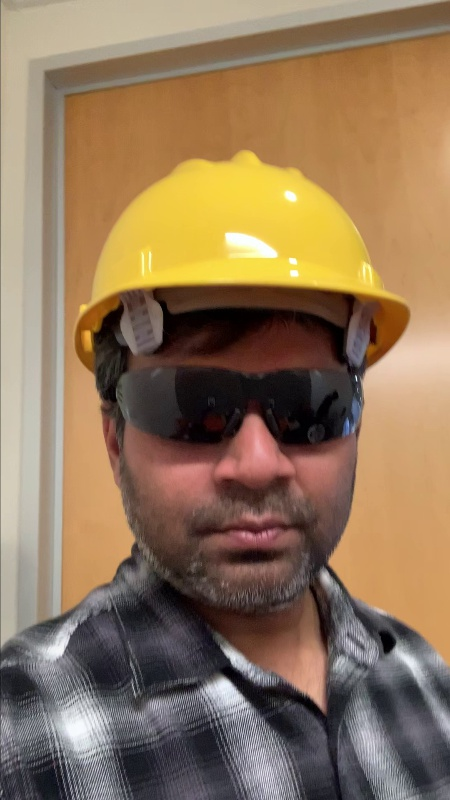glasses: (111, 360, 370, 454)
helmet: (69, 145, 416, 360)
